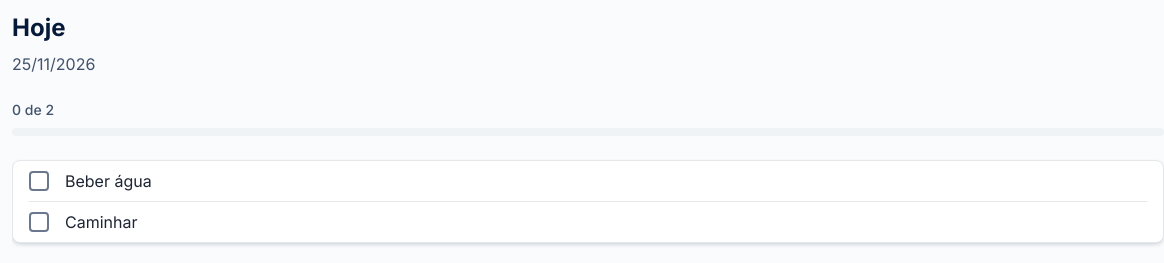
Test: Today › deve marcar e desmarcar, atualizando o progresso
Click the checkbox labelled "Beber água". click: (39, 181)
box: [29, 171, 49, 191]
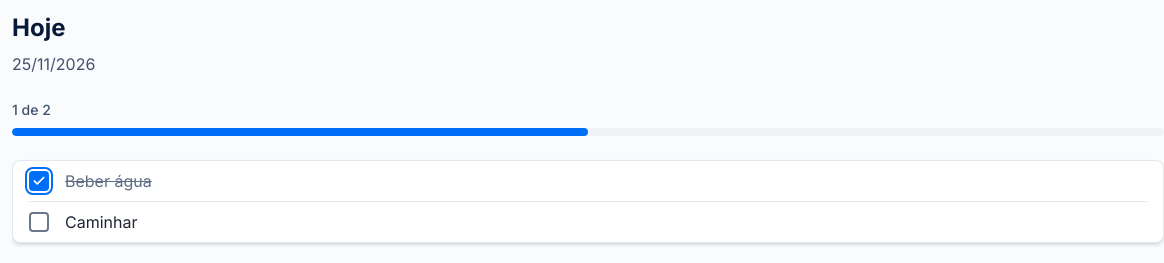
Now the text "1 de 2" is shown, box [12, 101, 51, 118]
Click the checkbox labelled "Beber água". click: (39, 181)
box: [29, 171, 49, 191]
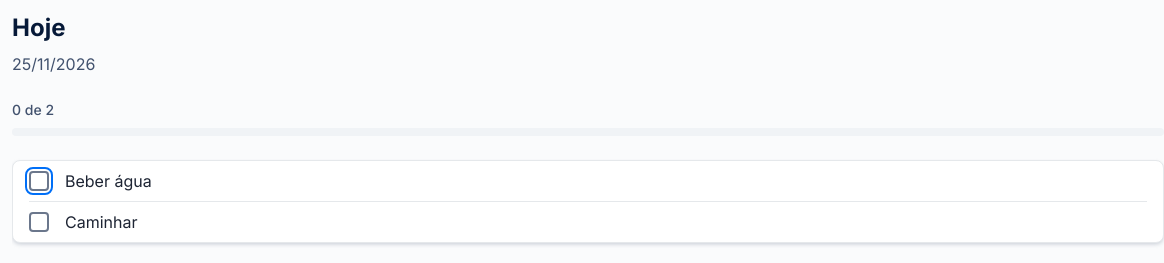
Now the text "0 de 2" is shown, box [12, 101, 54, 118]
